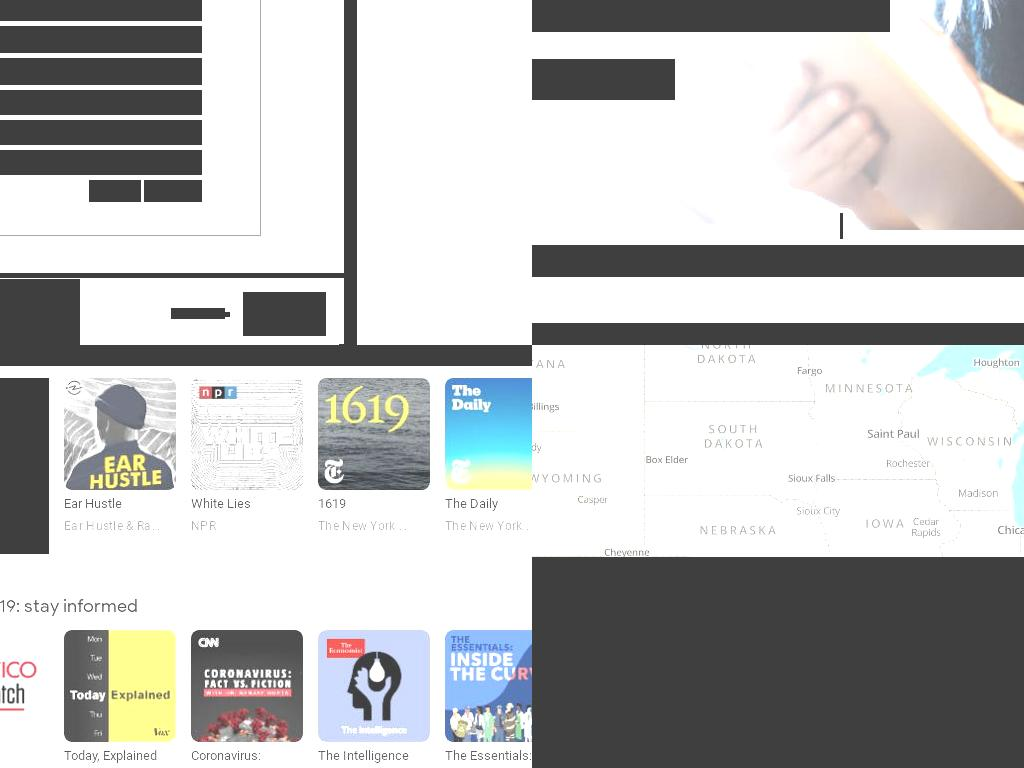button: (64, 378, 176, 534), (191, 378, 303, 534), (318, 378, 430, 534), (64, 630, 176, 768), (191, 630, 303, 768), (318, 630, 430, 768), (445, 378, 532, 534), (445, 630, 532, 768), (0, 378, 49, 554), (0, 630, 49, 768), (532, 59, 675, 100), (656, 323, 818, 345), (868, 323, 1024, 345), (532, 323, 606, 345)
field: (0, 26, 202, 53), (0, 58, 202, 85), (0, 90, 202, 115), (0, 120, 202, 145), (0, 150, 202, 175), (0, 0, 202, 21), (144, 180, 202, 202), (89, 180, 141, 202)
image: (532, 557, 964, 768), (64, 378, 176, 490), (191, 378, 303, 490), (318, 378, 430, 490), (64, 630, 176, 742), (191, 630, 303, 742), (318, 630, 430, 742), (445, 378, 532, 490), (445, 630, 532, 742), (0, 378, 49, 490), (0, 630, 49, 742), (243, 292, 326, 336), (598, 59, 675, 100), (532, 59, 598, 100), (699, 328, 775, 345), (911, 328, 987, 345), (532, 328, 563, 345), (224, 312, 230, 317), (339, 344, 345, 345)
link: (532, 323, 1024, 345)
text: (532, 245, 1024, 277), (0, 594, 532, 618), (0, 345, 532, 366), (0, 279, 80, 345), (344, 0, 357, 345), (191, 742, 287, 768), (64, 490, 160, 514), (191, 490, 287, 514), (318, 490, 414, 514), (64, 742, 160, 766), (318, 742, 414, 766), (445, 742, 532, 768), (445, 490, 532, 514), (532, 72, 659, 87), (0, 273, 345, 278), (64, 518, 160, 534), (191, 518, 287, 534), (318, 518, 414, 534), (0, 490, 33, 534), (445, 518, 532, 534), (0, 742, 33, 768), (171, 308, 225, 319), (0, 538, 33, 554), (840, 213, 843, 239)
